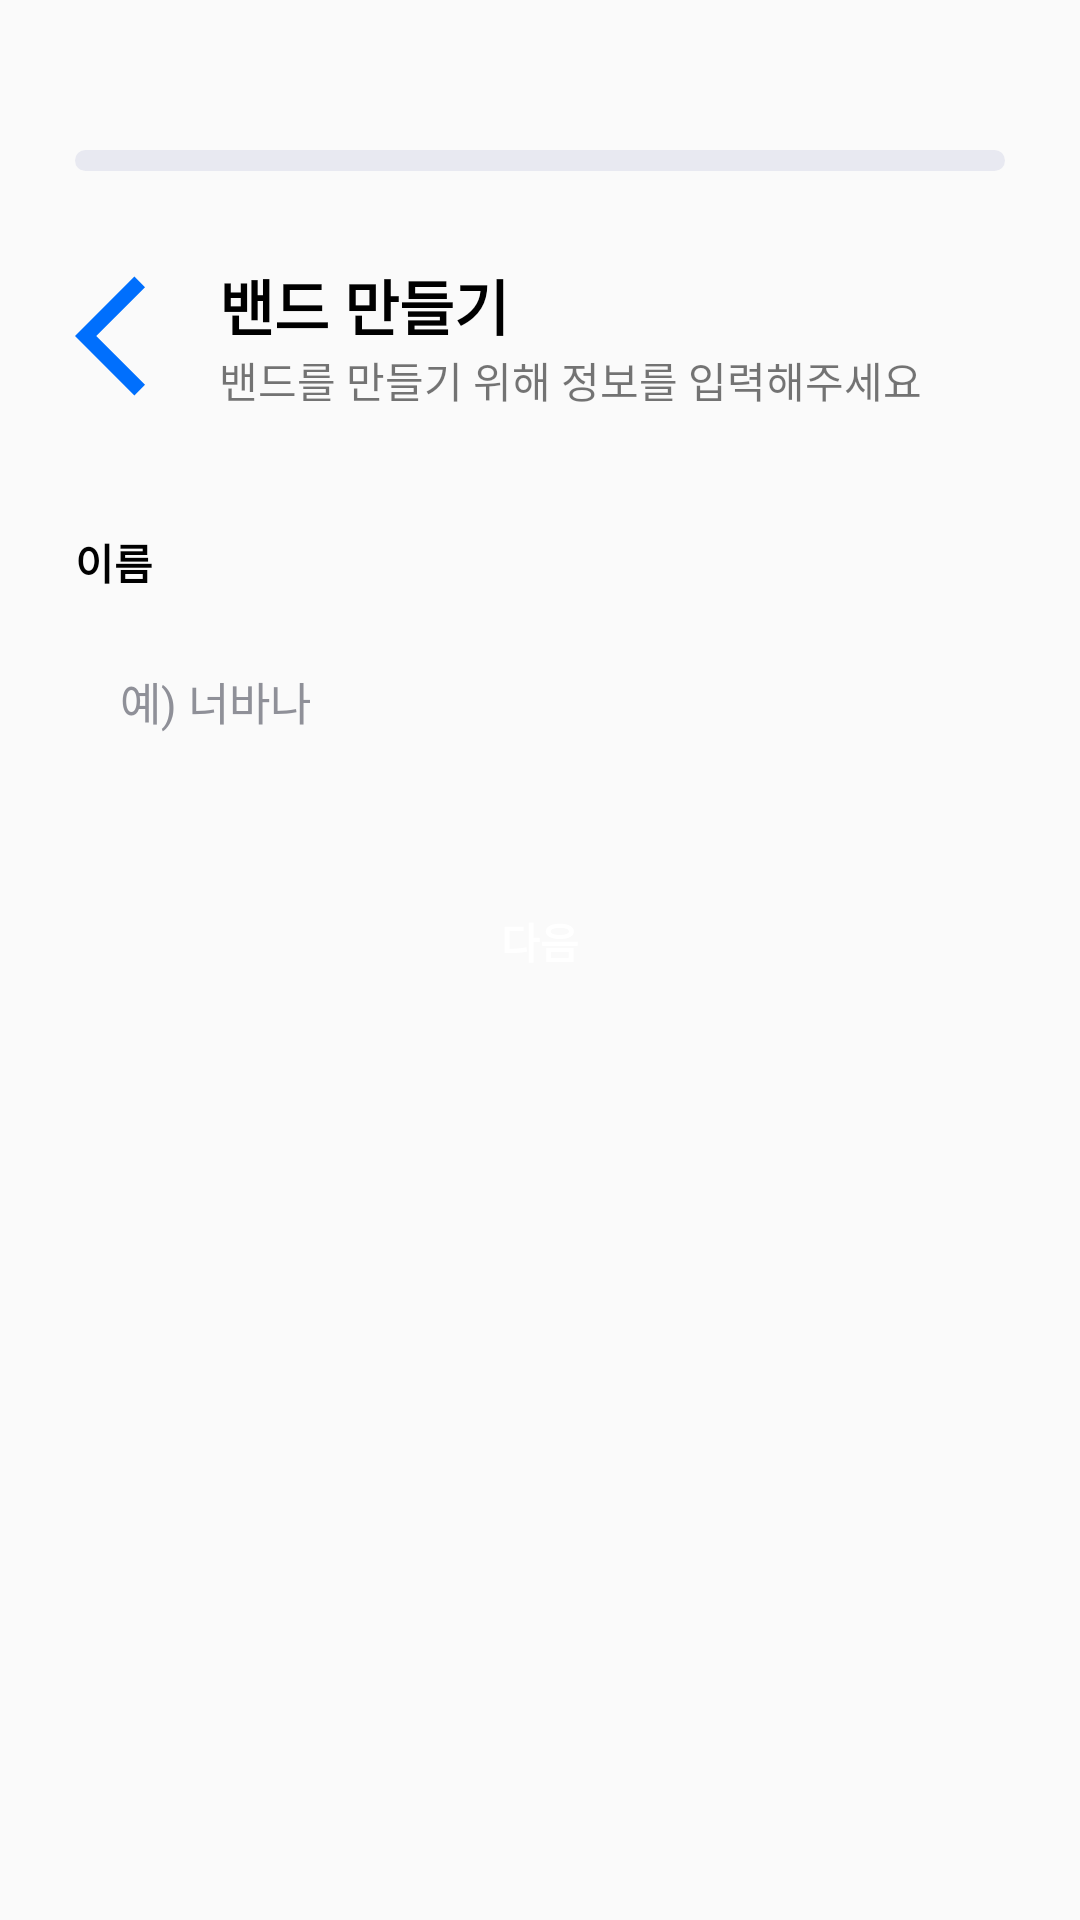

Where to tap for icons on this 1080w x 1920h app screen, as (x,y):
arrow back: (110,336)
